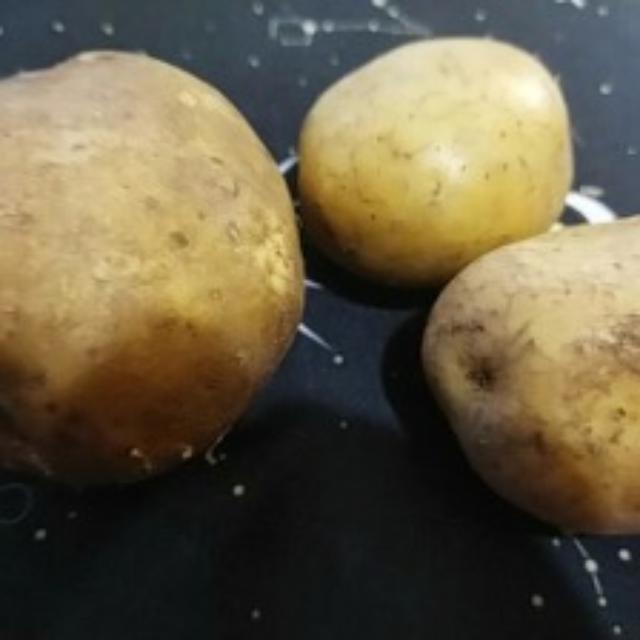Damaged potato: (1, 38, 308, 490), (420, 215, 640, 543)
Potato: (294, 35, 580, 292)
